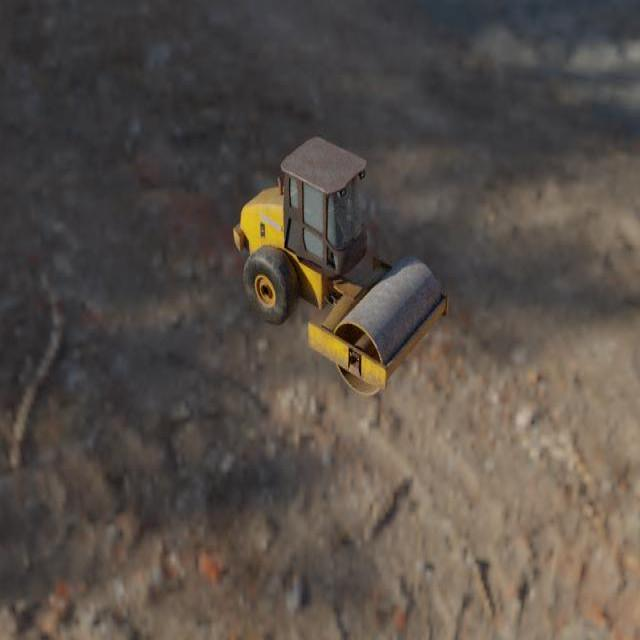Roller: (233, 136, 449, 395)
